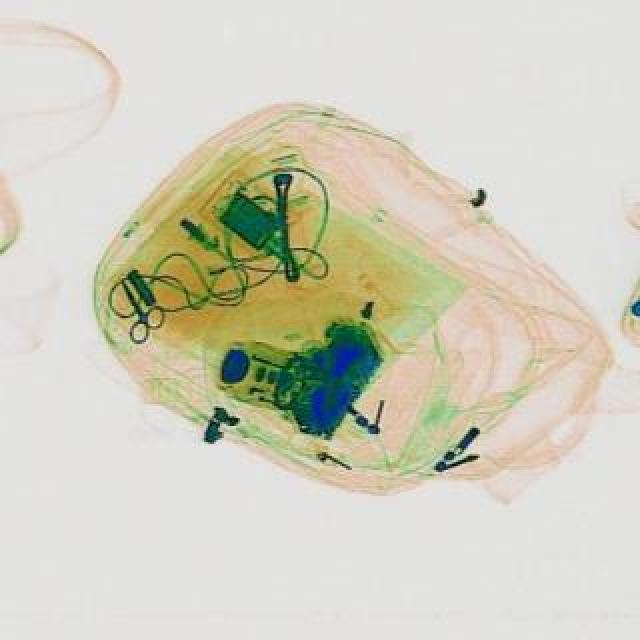pliers: (104, 272, 178, 348)
